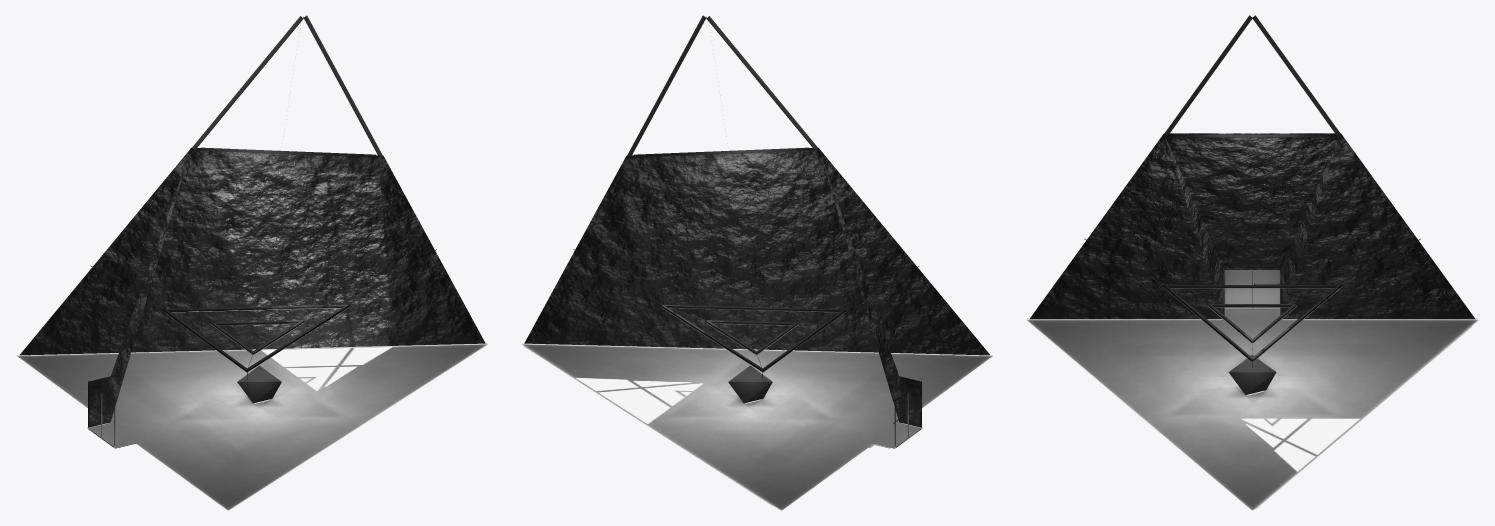
3 views of the same model, side by side, from view 1: azimuth 30°, elevation 25°; view 2: azimuth 150°, elevation 25°; view 3: azimuth 270°, elevation 25° (orthographic). The views are drawn at different scales.
Visible parts, largest first — view 1: Baked; view 2: Baked; view 3: Baked.
Part boxes in pixels (bbox=[...]): Baked: bbox=[15, 15, 489, 511]; Baked: bbox=[520, 15, 994, 511]; Baked: bbox=[1024, 15, 1480, 511].
Bounding box in the file's own units: 40.87 × 37.18 × 38.51.
